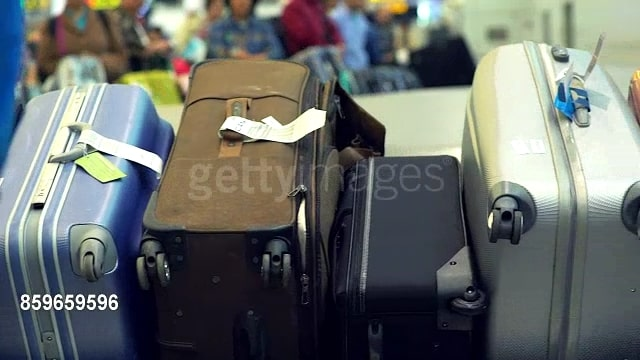baggage: (158, 57, 349, 353), (468, 38, 638, 360), (4, 83, 175, 359), (333, 148, 482, 360)
